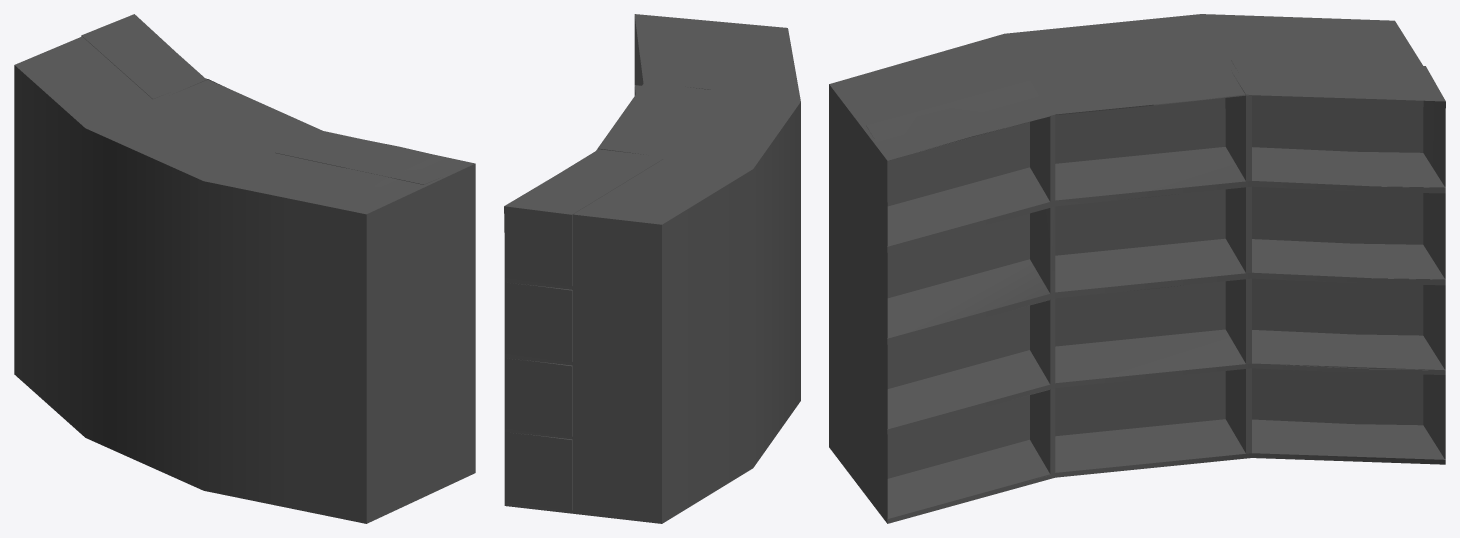
The model's file is esatnte jefe.fbx.
3 views of the same model, side by side, from view 1: azimuth 30°, elevation 25°; view 2: azimuth 150°, elevation 25°; view 3: azimuth 270°, elevation 25° (orthographic). The views are drawn at different scales.
Parts seen in each view (by area): view 1: Cube.012; view 2: Cube.012; view 3: Cube.012.
Boxes of the visible parts, x1,y1,x2,y2 form: Cube.012: (14, 14, 475, 523); Cube.012: (504, 14, 800, 523); Cube.012: (829, 14, 1445, 523).
Bounding box in the file's own units: 351 × 406 × 623.
Materials: 1 (1 with a texture image).
